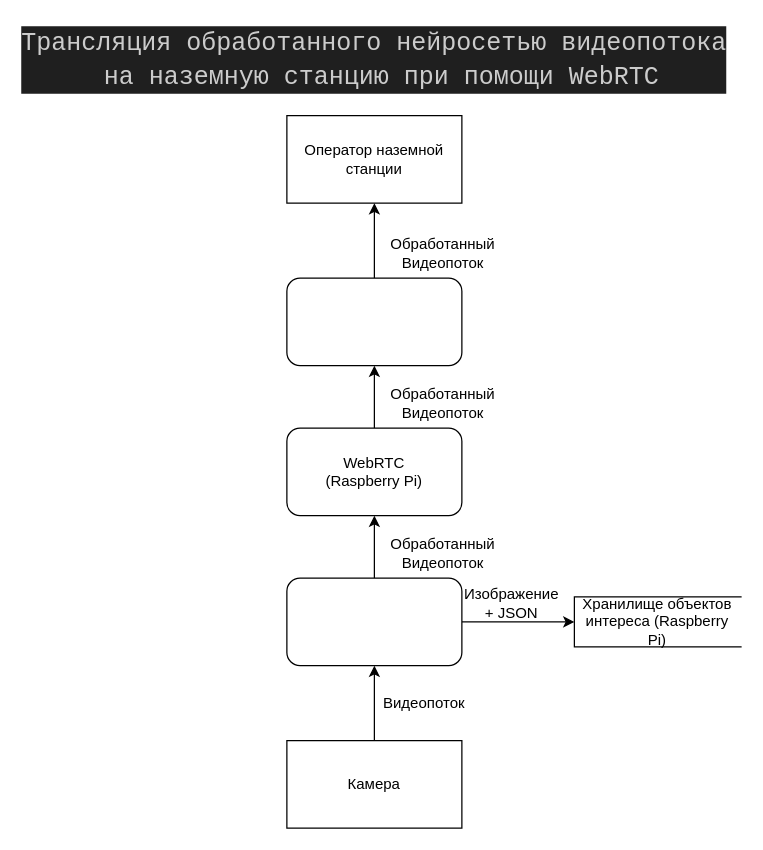
This 763x850 diagram has some shape labels left out. The centre of each missing label's shape, as x and y in pixels:
Модуль видеотрансляции (Web интерфейс React): the point at 374,321
Нейросеть Yolo ObjectDetection (Raspberry Pi): the point at 374,621
